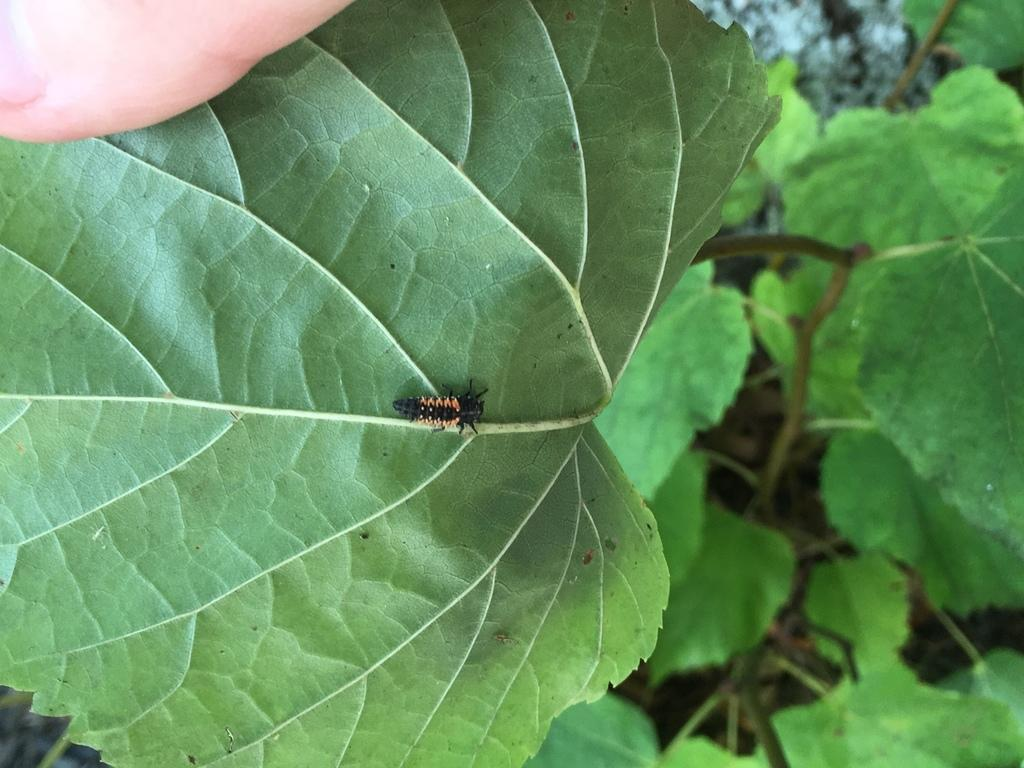ladybug: (391, 377, 495, 439)
